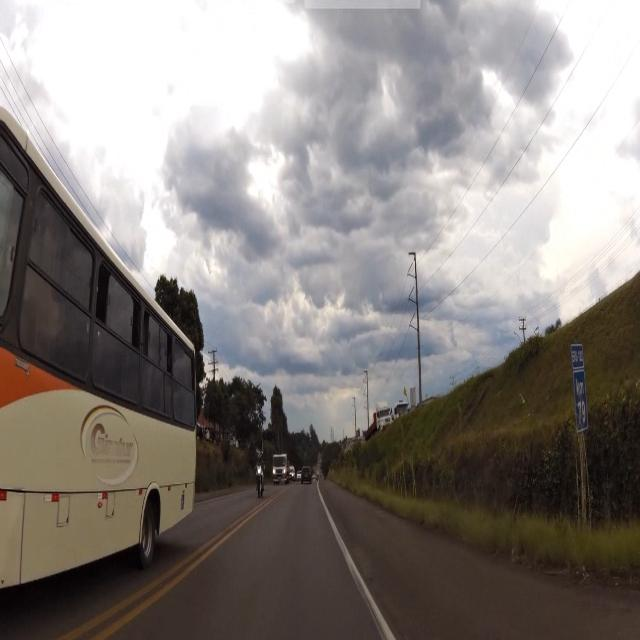RQ: (569, 344, 589, 436)
